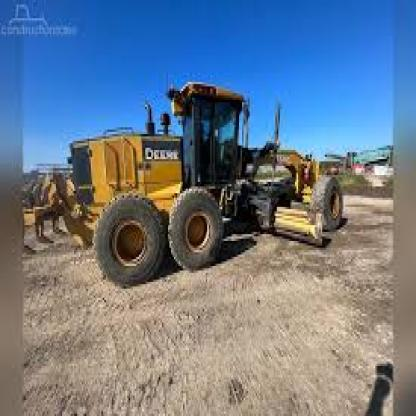bull_dozer/loader/grader: (32, 77, 358, 280)
